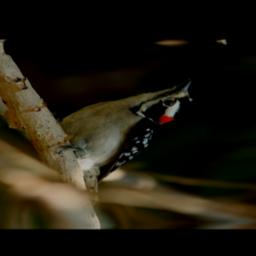Woodpecker: (41, 77, 219, 207)
